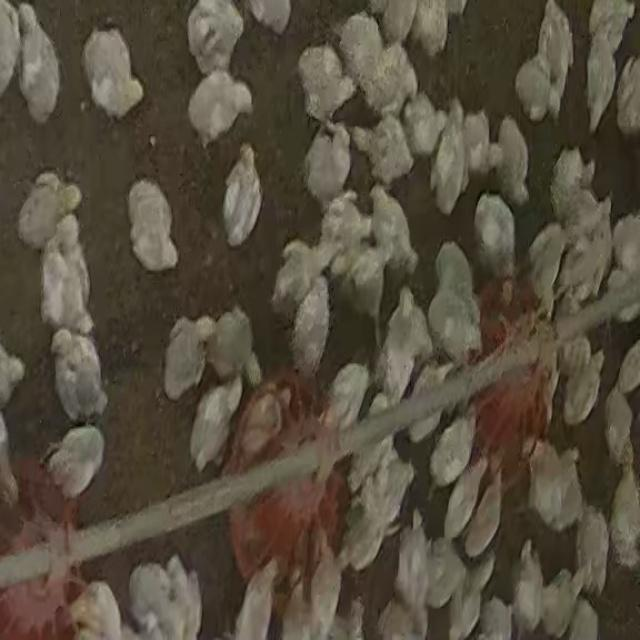chicken: (425, 239, 482, 364), (39, 215, 96, 338), (374, 286, 432, 406), (49, 328, 108, 427), (14, 2, 62, 120), (80, 28, 144, 114), (525, 439, 582, 535), (368, 181, 420, 284), (126, 180, 181, 274), (42, 422, 106, 502), (187, 378, 240, 474), (355, 40, 418, 118), (296, 43, 355, 125), (271, 242, 340, 311), (187, 70, 253, 142), (336, 12, 388, 101), (180, 0, 244, 71), (359, 110, 414, 191), (17, 173, 74, 251), (208, 304, 260, 388), (230, 555, 281, 640), (290, 274, 332, 377), (525, 222, 571, 316), (236, 384, 292, 461), (302, 122, 352, 208), (446, 553, 495, 640), (222, 143, 262, 249), (162, 314, 210, 402), (557, 335, 602, 426), (429, 108, 467, 213), (472, 192, 519, 276), (459, 471, 503, 556), (584, 26, 618, 136), (428, 412, 478, 486), (607, 455, 640, 567), (536, 0, 574, 92), (128, 568, 180, 635), (355, 459, 413, 519), (495, 115, 532, 205), (165, 552, 202, 640), (512, 59, 564, 121), (540, 568, 586, 638), (312, 534, 341, 640), (608, 210, 640, 306), (549, 182, 609, 233), (602, 376, 636, 465), (321, 364, 366, 431), (348, 246, 393, 313), (70, 580, 121, 639), (319, 198, 370, 255), (515, 538, 544, 632), (575, 508, 608, 590), (429, 536, 465, 609), (342, 506, 384, 568), (400, 527, 428, 618), (587, 0, 635, 51), (348, 438, 387, 493), (406, 98, 444, 154), (408, 1, 448, 54), (281, 567, 310, 640), (464, 114, 498, 173), (615, 55, 640, 134), (549, 146, 598, 186), (372, 0, 416, 40), (248, 2, 292, 36), (479, 600, 513, 640), (567, 601, 598, 640), (616, 340, 640, 388)
